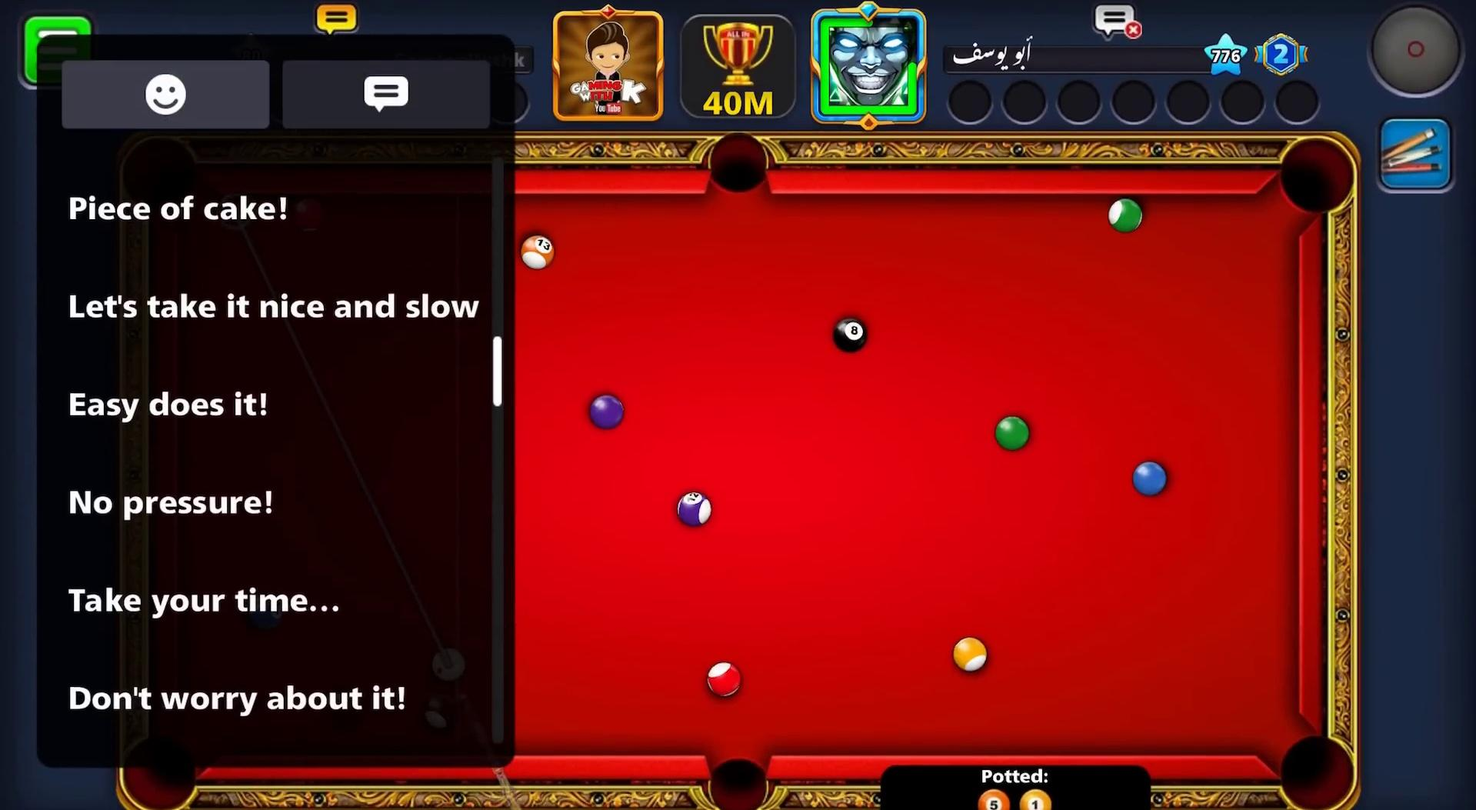Ball: (1098, 190, 1152, 244), (944, 632, 994, 679), (1131, 453, 1174, 502), (828, 313, 870, 356), (587, 387, 625, 434), (707, 653, 743, 702), (994, 408, 1028, 454), (678, 489, 715, 530), (522, 231, 553, 268)
Hole: (1272, 731, 1362, 810), (1279, 132, 1358, 220), (123, 735, 200, 810), (704, 758, 781, 810), (708, 137, 771, 199)
Spin: (1365, 4, 1467, 104)
White: (430, 648, 468, 691)
